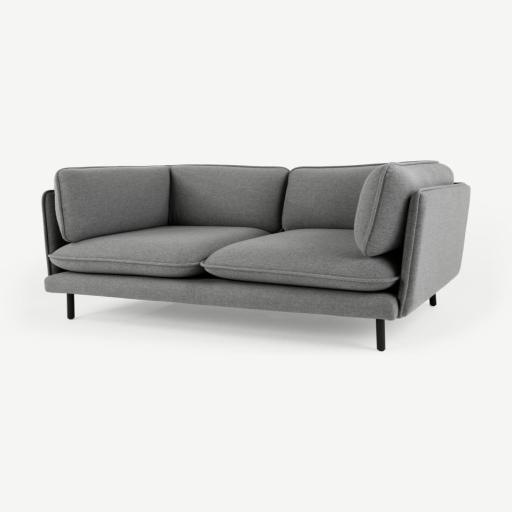back_cushion: (55, 161, 453, 256)
base: (45, 271, 398, 320)
left_arm: (398, 184, 470, 317)
legs: (376, 319, 385, 351), (67, 294, 74, 319), (430, 294, 436, 306)
right_arm: (42, 190, 66, 275)
seat_cushion: (51, 227, 398, 291)
two-seater: (0, 0, 511, 512)
